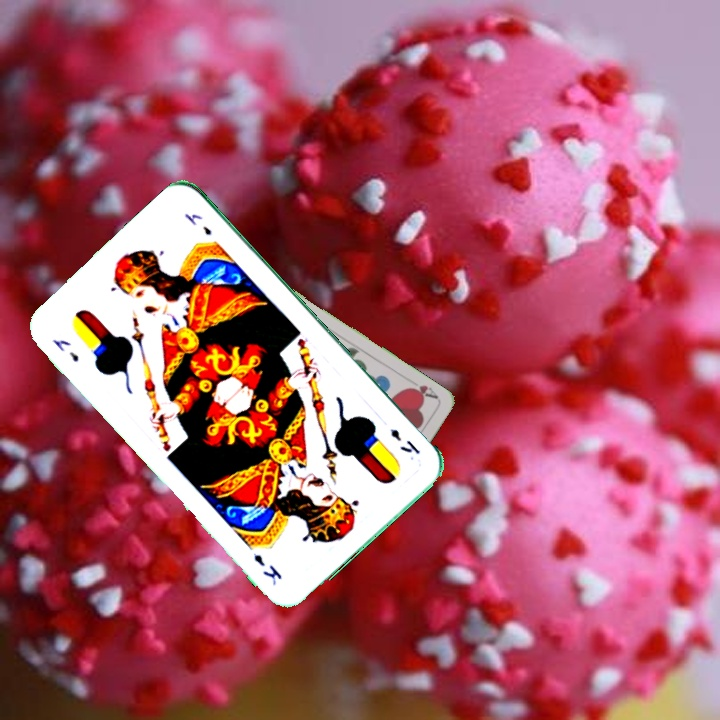EK: (385, 424, 422, 457), (49, 335, 82, 365)
HA: (403, 381, 441, 402)
